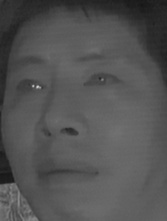eye: (83, 70, 124, 94), (13, 76, 47, 99)
mouth: (33, 154, 100, 189)
